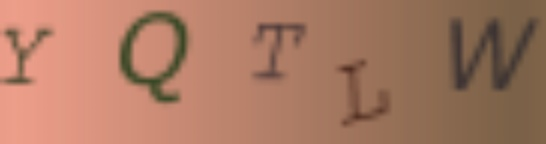L: (335, 56, 396, 129)
Q: (114, 10, 192, 104)
T: (245, 19, 314, 83)
W: (443, 12, 541, 93)
Y: (1, 25, 56, 89)
